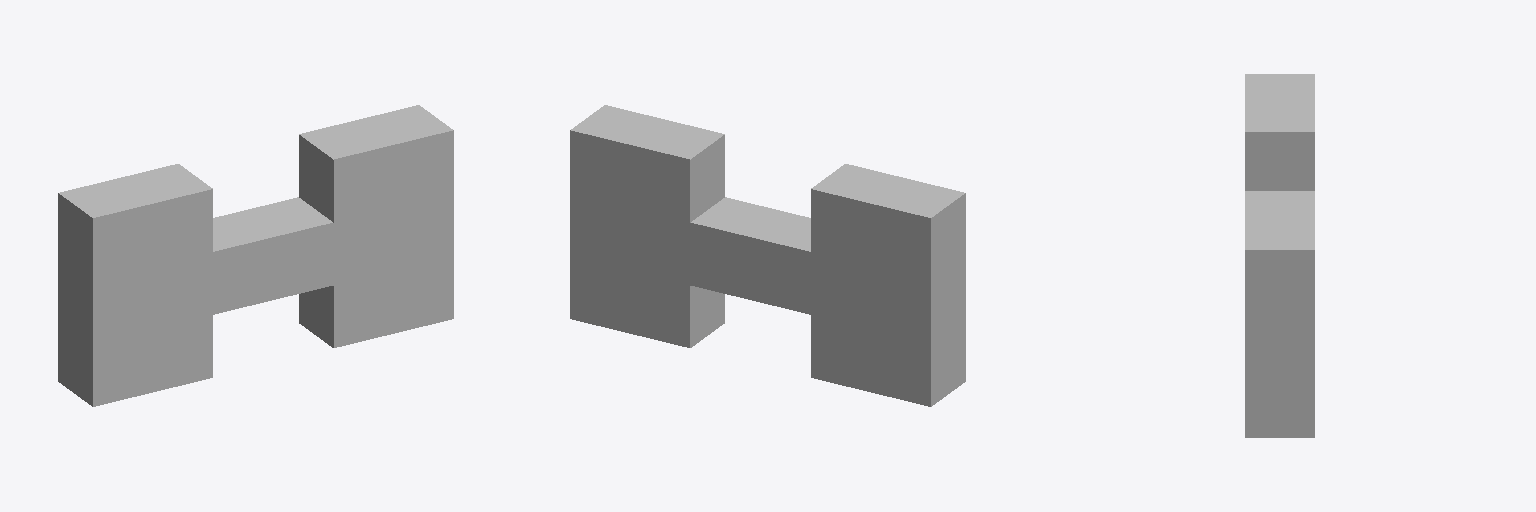
File: bow.obj
The picture shows the model from 3 angles: view 1: azimuth 30°, elevation 25°; view 2: azimuth 150°, elevation 25°; view 3: azimuth 270°, elevation 25°; orthographic projection.
Parts seen in each view (by area): view 1: object 1; view 2: object 1; view 3: object 1.
Part boxes in pixels (x1,y1,x2,y2): object 1: (58, 105, 453, 406); object 1: (570, 105, 965, 406); object 1: (1245, 74, 1314, 437).
Size of the model in its own units: 0.6 by 0.3 by 0.1.